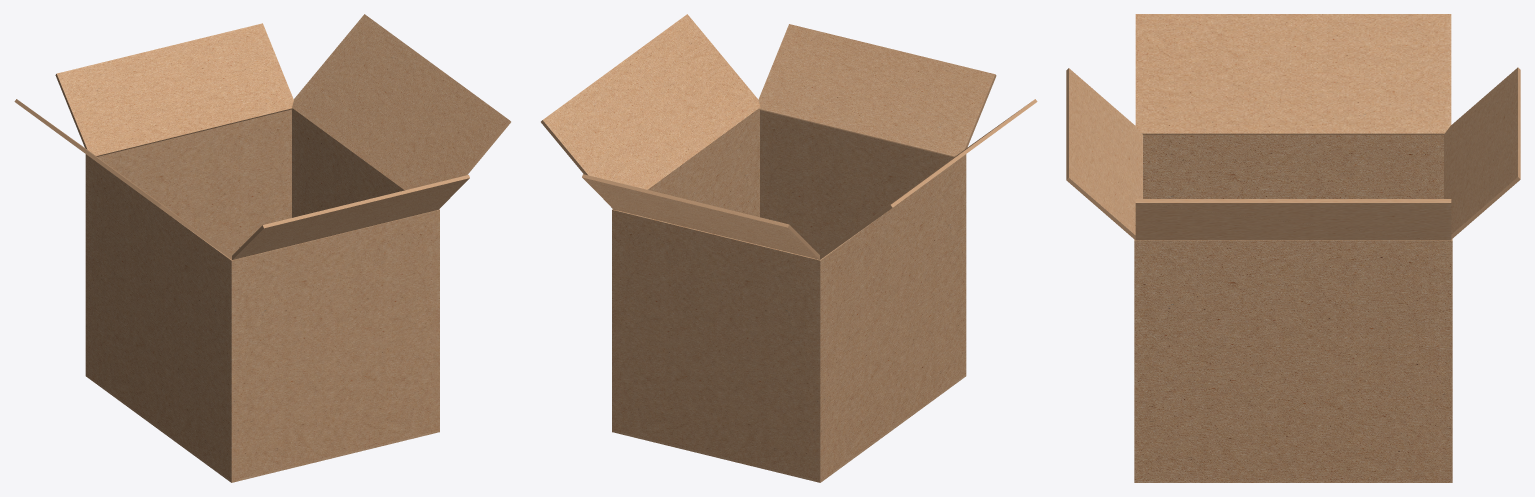
The model's file is cardboard_box.glb.
The picture shows the model from 3 angles, left to right: view 1: azimuth 30°, elevation 25°; view 2: azimuth 150°, elevation 25°; view 3: azimuth 270°, elevation 25°; orthographic projection. The views are drawn at different scales.
Visible parts, largest first — view 1: Cube, Cube.001, Cube.003, Cube.004, Cube.002; view 2: Cube, Cube.001, Cube.004, Cube.003, Cube.002; view 3: Cube, Cube.002, Cube.001, Cube.003, Cube.004.
Boxes of the visible parts, x1,y1,x2,y2 form: Cube: (85,108,439,482); Cube.001: (292,14,510,190); Cube.003: (55,23,293,156); Cube.004: (232,175,469,259); Cube.002: (14,99,231,259); Cube: (612,109,966,482); Cube.001: (541,14,760,210); Cube.004: (758,24,996,157); Cube.003: (582,174,819,259); Cube.002: (815,99,1037,259); Cube: (1134,134,1452,482); Cube.002: (1135,14,1451,134); Cube.001: (1135,199,1451,240); Cube.003: (1444,67,1520,239); Cube.004: (1066,68,1142,239).
Bounding box in the file's own units: 4.49 × 3.59 × 4.61.
1 material, 1 textured.
